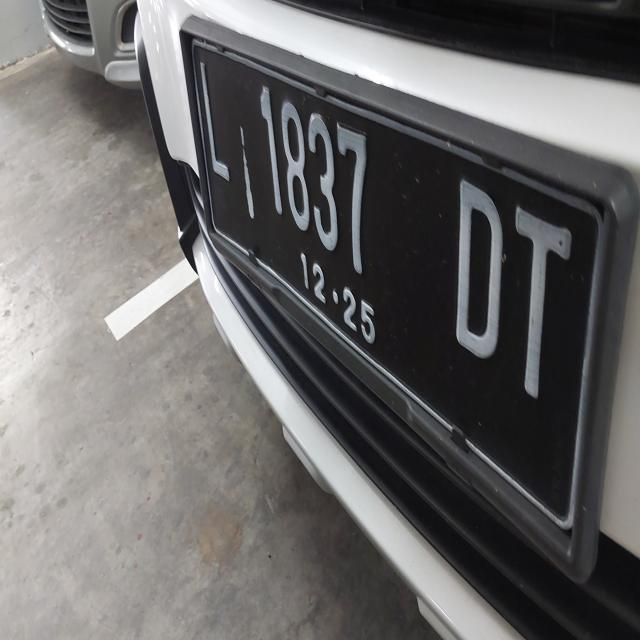1: (256, 68, 286, 222)
3: (300, 93, 346, 273)
7: (332, 102, 373, 287)
8: (274, 85, 314, 249)
D: (442, 146, 512, 368)
L: (192, 50, 238, 197)
T: (502, 183, 576, 410)
